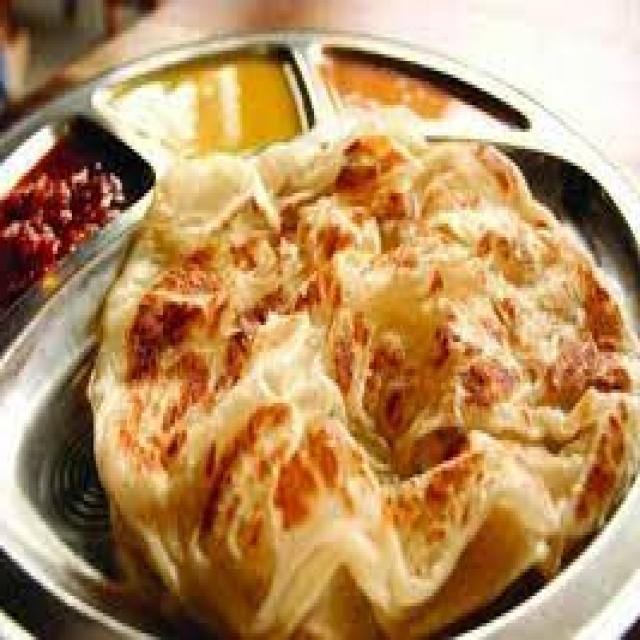Paratha: (105, 120, 594, 640)
